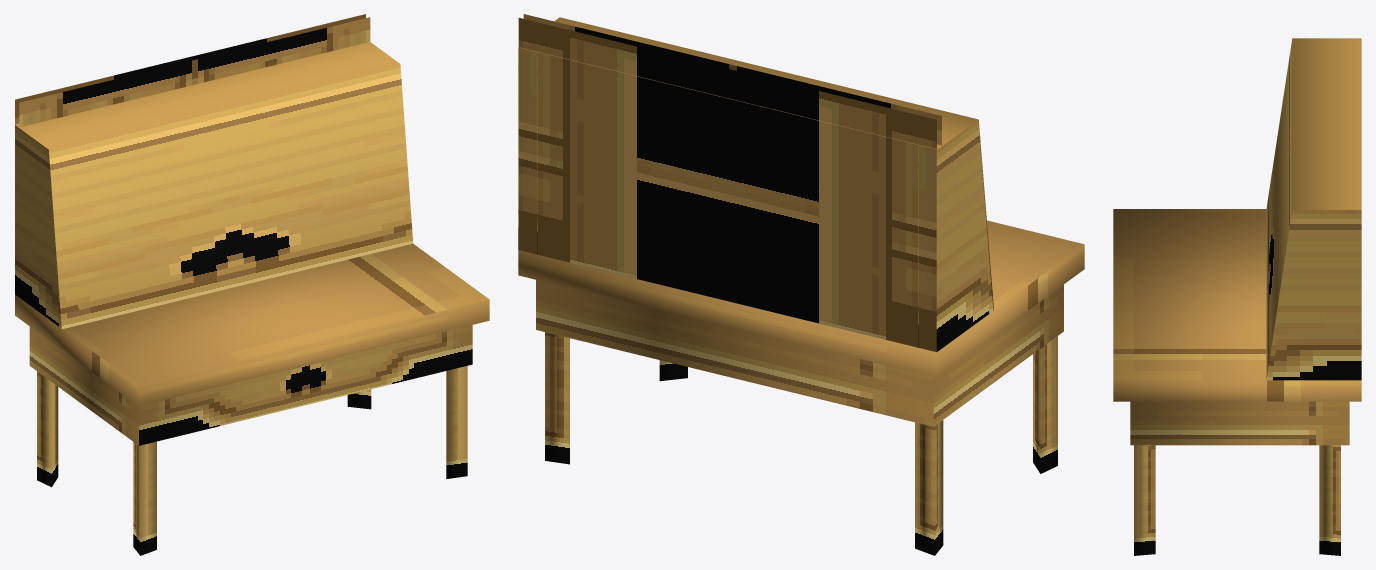
3 views of the same model, side by side, from view 1: azimuth 30°, elevation 25°; view 2: azimuth 150°, elevation 25°; view 3: azimuth 270°, elevation 25° (orthographic). The views are drawn at different scales.
Parts seen in each view (by area): view 1: 3064IMRL04_05; view 2: 3064IMRL04_05; view 3: 3064IMRL04_05.
Boxes of the visible parts, left/top/right/bottom form: 3064IMRL04_05: left=14, top=14, right=489, bottom=555; 3064IMRL04_05: left=518, top=14, right=1084, bottom=555; 3064IMRL04_05: left=1113, top=38, right=1361, bottom=555.
Bounding box in the file's own units: 1.52 × 1.56 × 0.9302.
Materials: 1 (1 with a texture image).
